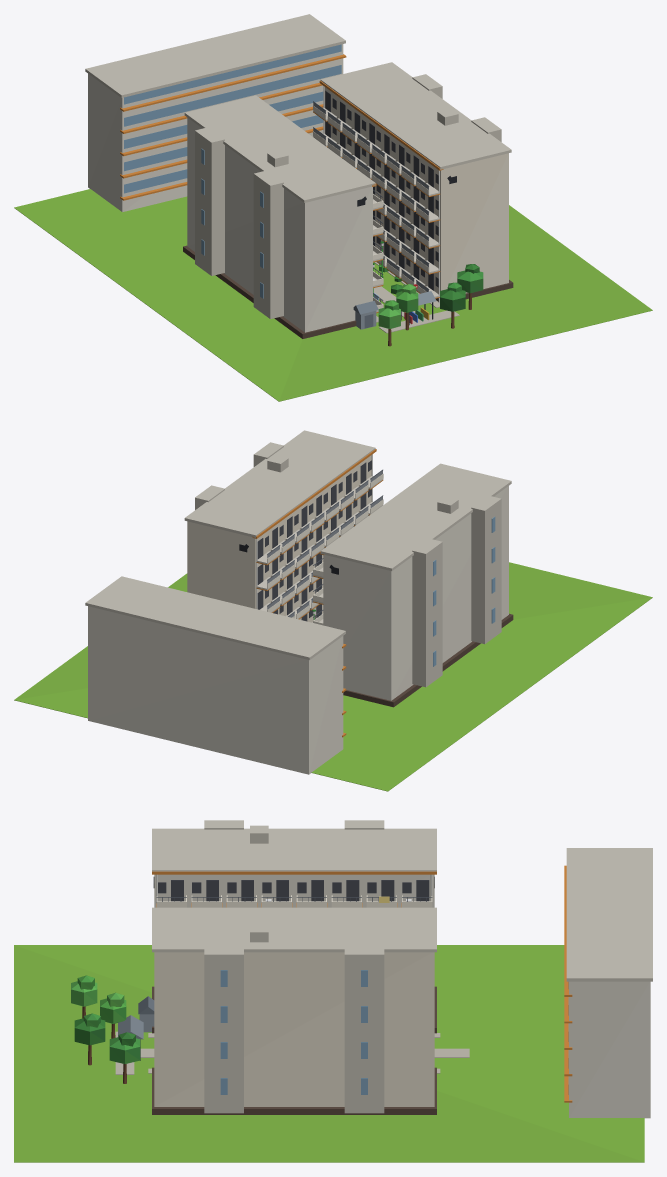
Rendered from danchi.glb.
3 renders of one model, top to bottom at view 1: azimuth 30°, elevation 25°; view 2: azimuth 150°, elevation 25°; view 3: azimuth 270°, elevation 25°, orthographic. The views are drawn at different scales.
Parts seen in each view (by area): view 1: Ground, Left Block Body, Right Block Body, Far Block, Far Block Roof Cap, Left Block Roof Cap, Right Block Roof Cap, Left Stair Core 2, Left Stair Core 1, Far Window Band 4, Far Window Band 5, Far Window Band 3 (+4 smaller); view 2: Far Block, Ground, Left Block Body, Far Block Roof Cap, Left Block Roof Cap, Right Block Roof Cap, Right Block Body, Left Stair Core 2, Left Stair Core 1, Left Block Plinth; view 3: Ground, Right Block Body, Right Block Roof Cap, Left Block Roof Cap, Far Block Roof Cap, Far Block, Right Stair Core 1, Right Stair Core 2, Left Block Body, Right Block Plinth, Left Block Roof Edge, Tree Canopy 2 (+4 smaller).
Boxes of the visible parts, x1,y1,x2,y2 form: Ground: (14, 189, 652, 401); Left Block Body: (187, 117, 372, 332); Right Block Body: (324, 87, 508, 293); Far Block: (88, 44, 343, 211); Far Block Roof Cap: (85, 14, 345, 97); Left Block Roof Cap: (184, 95, 375, 202); Right Block Roof Cap: (320, 62, 511, 169); Left Stair Core 2: (253, 170, 283, 318); Left Stair Core 1: (195, 127, 224, 275); Far Window Band 4: (124, 65, 341, 126); Far Window Band 5: (124, 44, 341, 104); Far Window Band 3: (124, 91, 323, 148); Far Block: (88, 606, 343, 774); Ground: (14, 562, 652, 791); Left Block Body: (323, 486, 508, 700); Far Block Roof Cap: (85, 576, 345, 660); Left Block Roof Cap: (320, 463, 511, 570); Right Block Roof Cap: (184, 430, 375, 537); Right Block Body: (187, 455, 371, 622); Left Stair Core 2: (471, 495, 501, 644); Left Stair Core 1: (412, 538, 442, 687); Left Block Plinth: (343, 613, 513, 707); Ground: (14, 945, 644, 1162); Right Block Body: (154, 952, 434, 1106); Right Block Roof Cap: (152, 907, 436, 952); Left Block Roof Cap: (152, 828, 436, 871); Far Block Roof Cap: (566, 848, 652, 981); Far Block: (569, 981, 650, 1118); Right Stair Core 1: (344, 946, 384, 1113); Right Stair Core 2: (204, 946, 243, 1113); Left Block Body: (154, 874, 434, 907); Right Block Plinth: (152, 1067, 436, 1114); Left Block Roof Edge: (152, 871, 436, 874); Tree Canopy 2: (74, 1018, 105, 1045).
Size of the model in its own units: 44 by 16.55 by 54.7.
